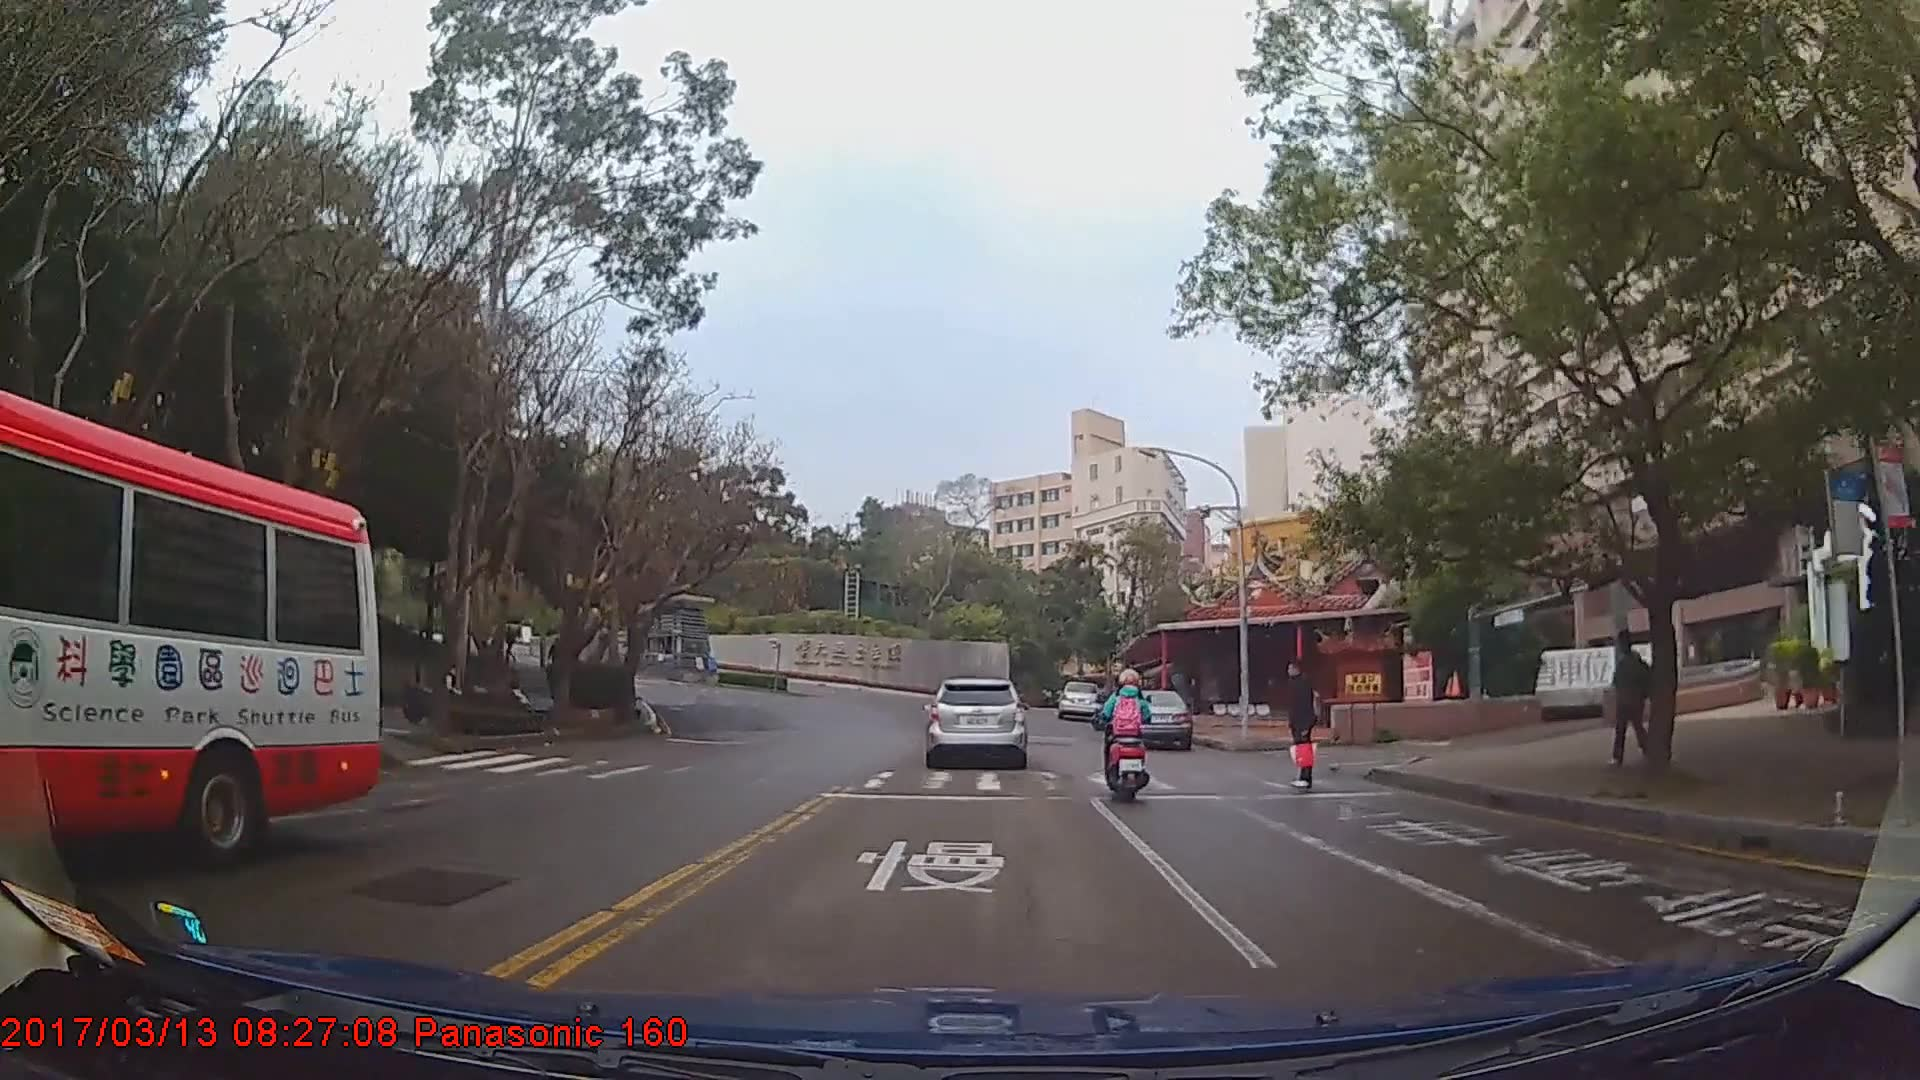pedestrian: (1282, 652, 1328, 792)
rider: (1096, 669, 1156, 802)
vehicle: (0, 383, 375, 870), (927, 673, 1028, 767), (1118, 687, 1193, 751), (1058, 681, 1101, 719)
